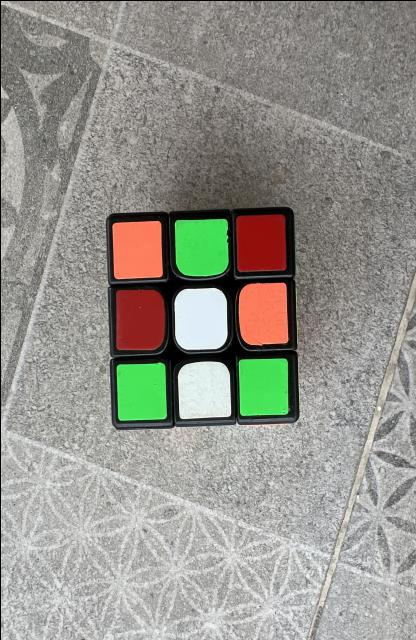Green: (173, 218, 228, 275), (116, 361, 166, 420), (237, 358, 288, 415)
Orange: (237, 281, 287, 345), (112, 220, 161, 278)
Red: (115, 289, 165, 349), (235, 212, 285, 271)
White: (173, 288, 226, 349), (177, 360, 231, 419)
